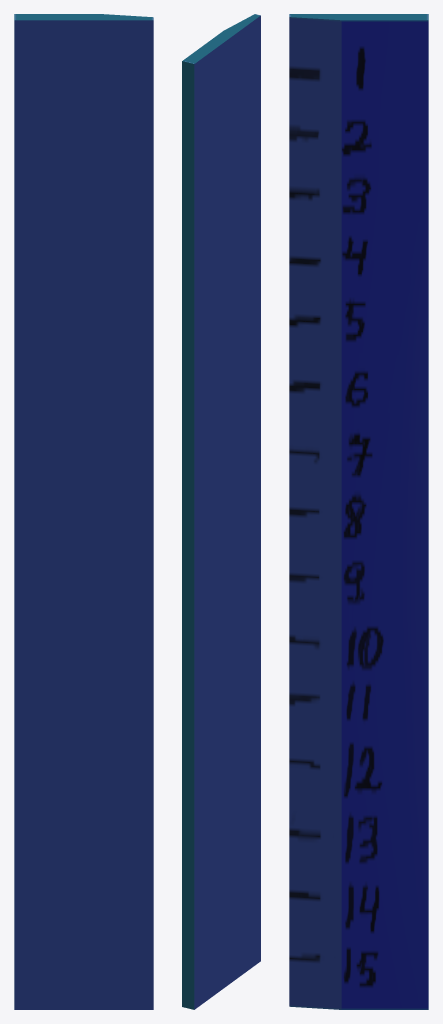
Rendered from Ruler.fbx.
3 views of the same model, side by side, from view 1: azimuth 90°, elevation 25°; view 2: azimuth 150°, elevation 25°; view 3: azimuth 270°, elevation 25° (orthographic). The views are drawn at different scales.
Visible parts, largest first — view 1: Cube; view 2: Cube; view 3: Cube.
Part boxes in pixels (x1,y1,x2,y2): Cube: (14, 14, 153, 1009); Cube: (182, 14, 260, 1009); Cube: (289, 14, 428, 1009).
Size of the model in its own units: 21.36 by 1569 by 200.
